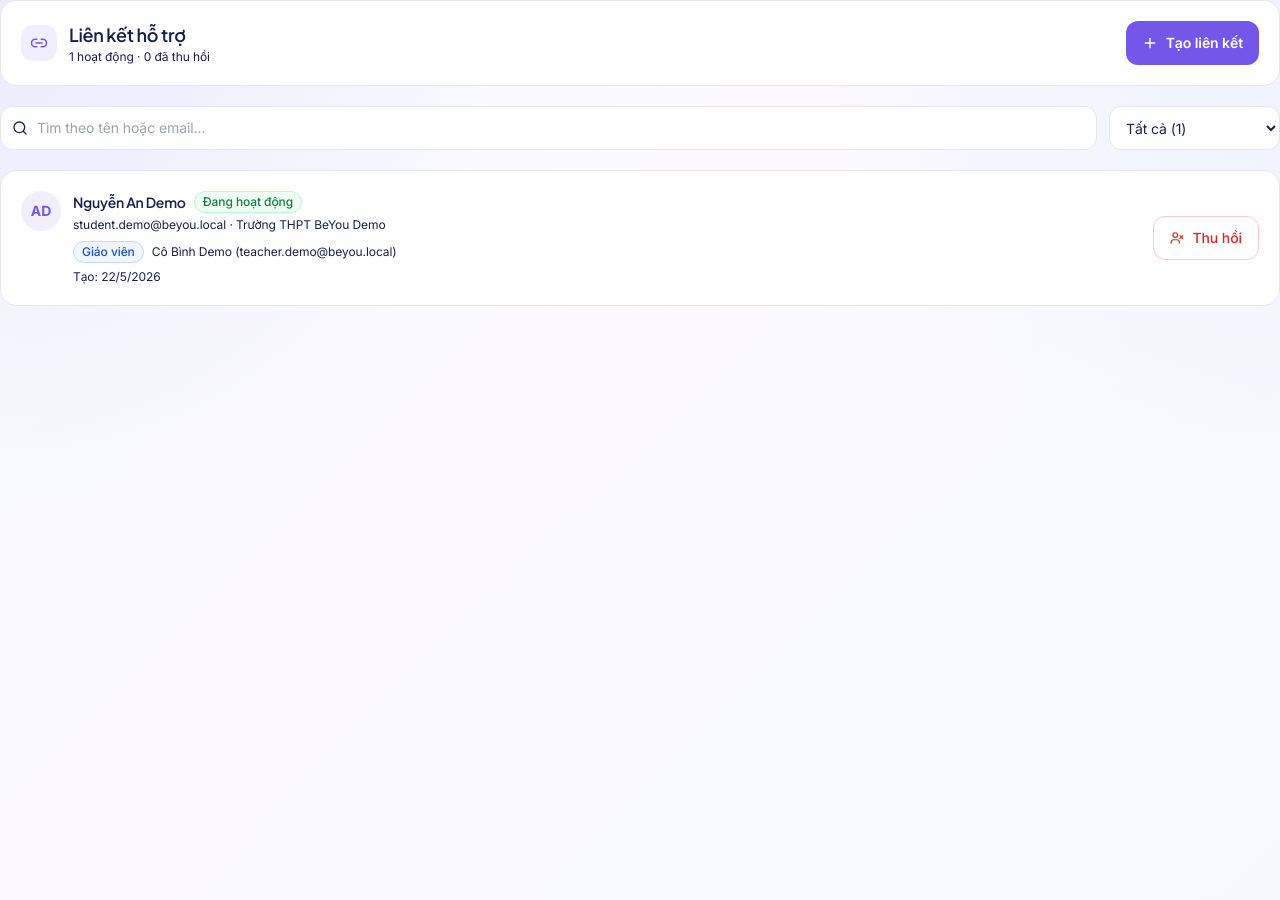
it: Phase 18 supportive copy and critical interaction polish › shows admin revoke consequences and outcome state for support links
Expected: the heading "Liên kết hỗ trợ" is shown, x1=69 y1=23 x2=186 y2=46
Click the button "Thu hồi": (1206, 238) x1=1153 y1=216 x2=1259 y2=260
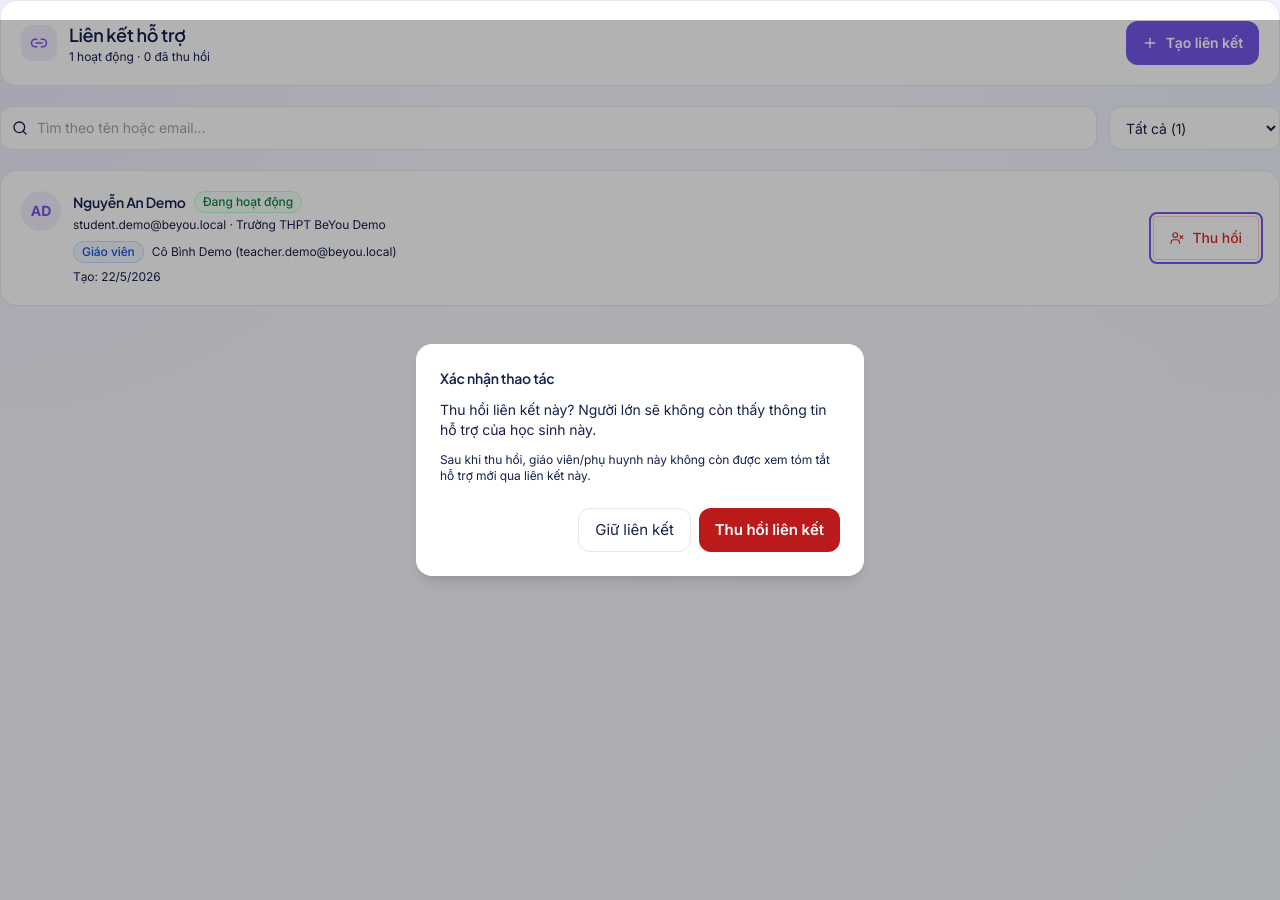
Expected: the text "Sau khi thu hồi, giáo viên/phụ huynh này không còn được xem tóm tắt hỗ trợ mới qua liên kết này." is shown, x1=440 y1=452 x2=830 y2=483
Click the button "Thu hồi liên kết": (769, 530) x1=699 y1=508 x2=840 y2=552
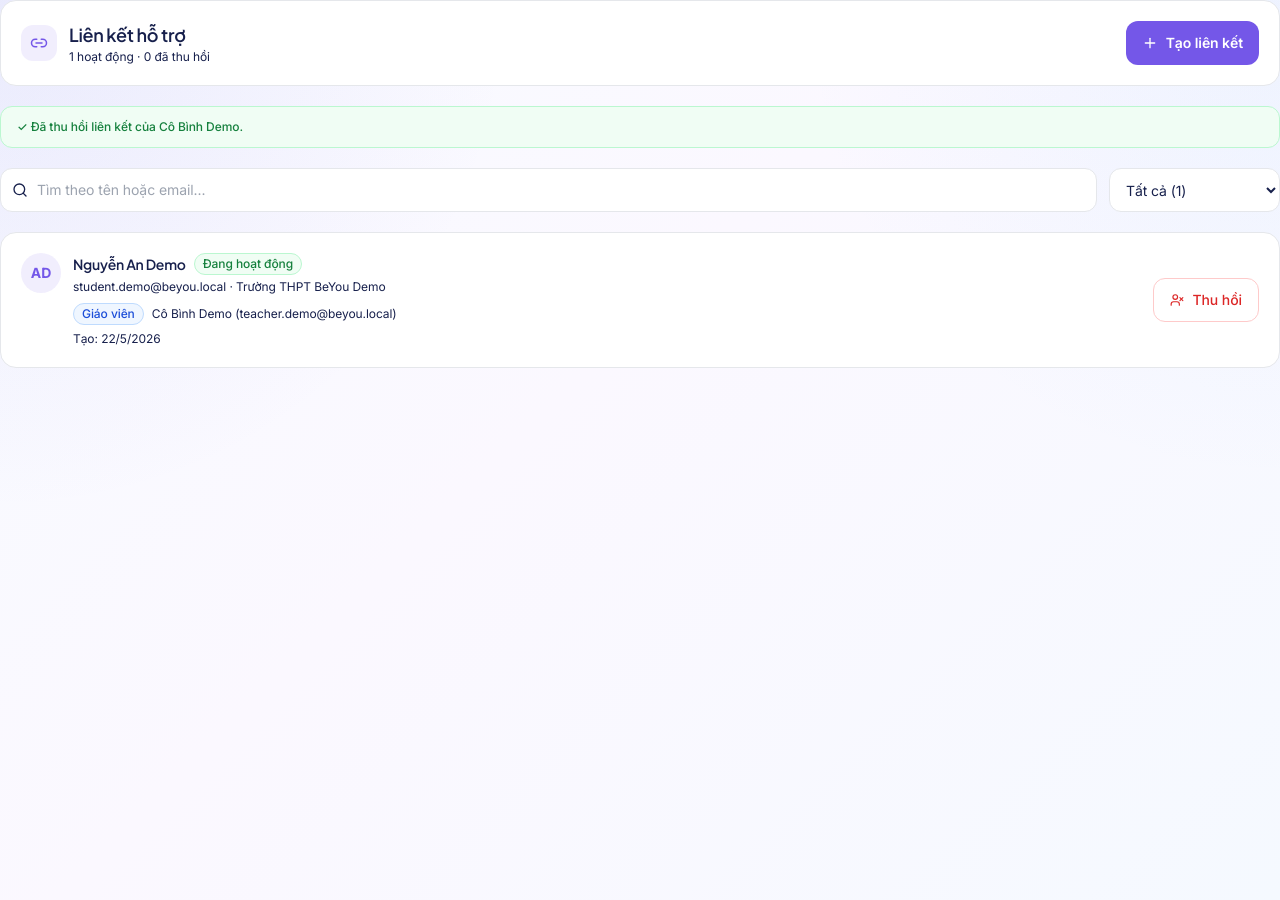
Expected: the text "✓ Đã thu hồi liên kết của Cô Bình Demo." is shown, x1=0 y1=106 x2=1279 y2=148
